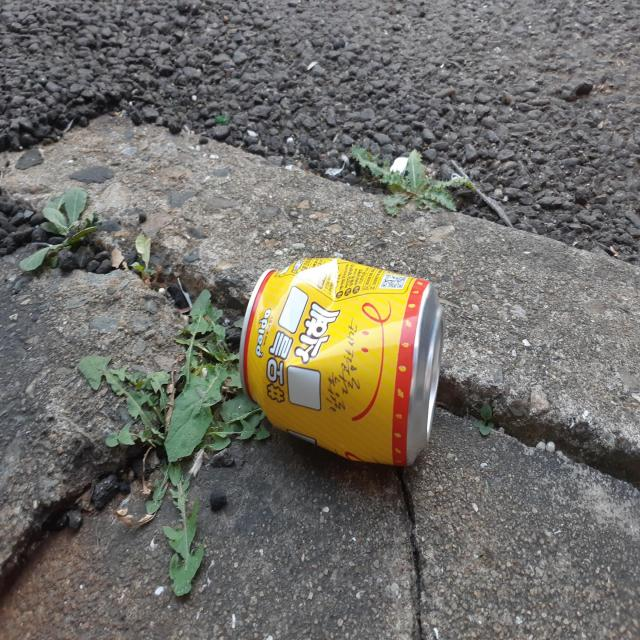can: (239, 258, 444, 467)
